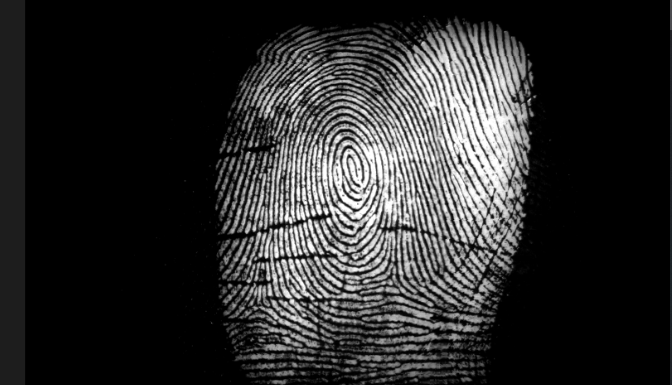nucelo: (336, 141, 367, 190)
verticilo: (242, 286, 277, 316), (376, 259, 409, 288)
